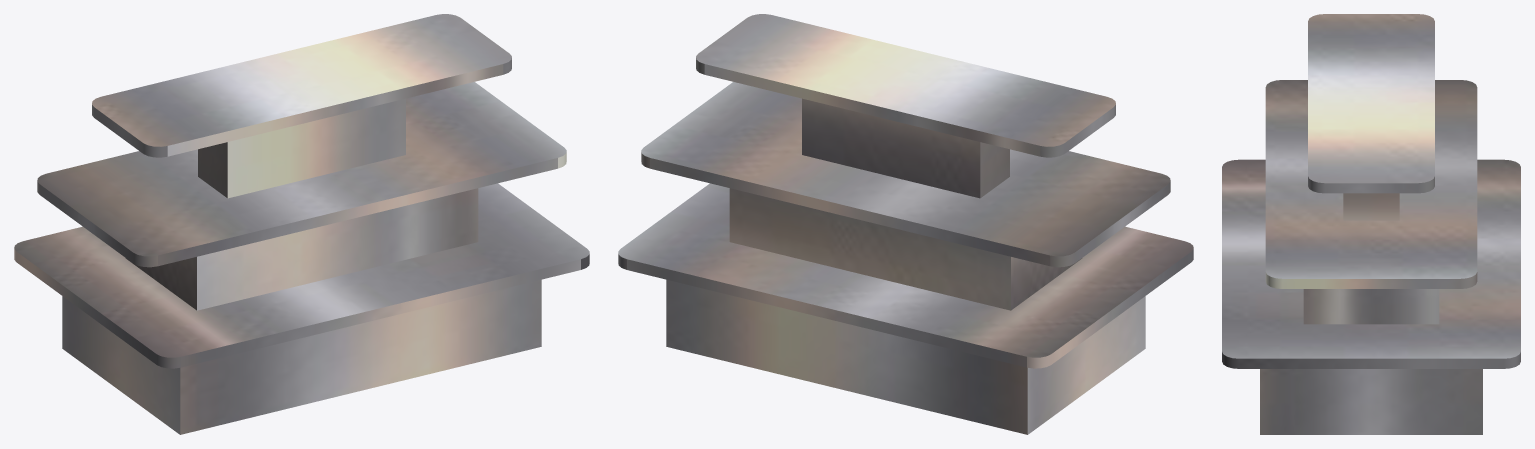
Rendered from tier_table_three.glb.
3 renders of one model, left to right at view 1: azimuth 30°, elevation 25°; view 2: azimuth 150°, elevation 25°; view 3: azimuth 270°, elevation 25°, orthographic. The views are drawn at different scales.
Visible parts, largest first — view 1: display_table_02; view 2: display_table_02; view 3: display_table_02.
Part boxes in pixels (box(x1,y1,x2,y2)): display_table_02: box(14, 14, 589, 434); display_table_02: box(618, 14, 1193, 434); display_table_02: box(1222, 14, 1520, 434).
Bounding box in the file's own units: 2.36 × 1.4 × 1.5.
1 material, 1 textured.
